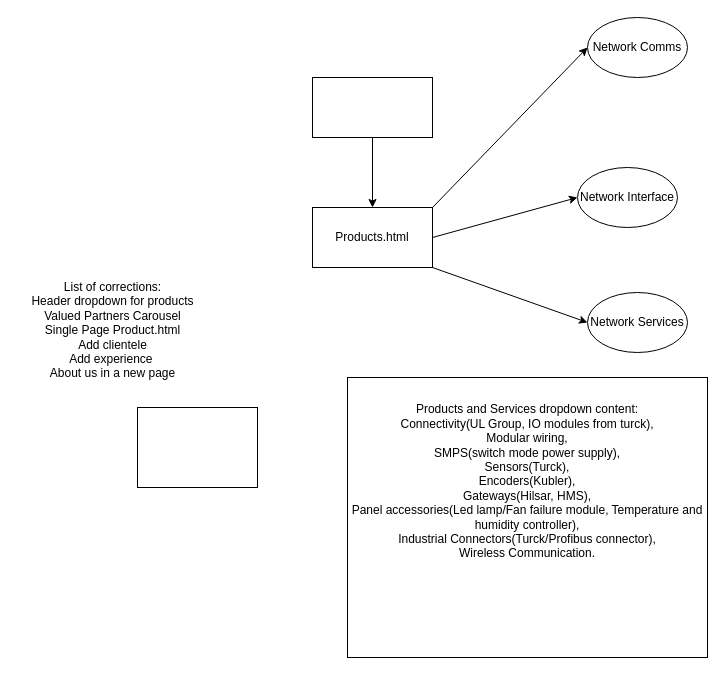
Image size: 725x675. Some labels were removed from this diagram. The box of each missing label's shape, as (x1, y1, x2, y2) in pixels:
Anyess Global Main Page: (312, 76, 432, 138)
Turck India UL group ps automation hilsar kubler: (136, 406, 258, 488)
